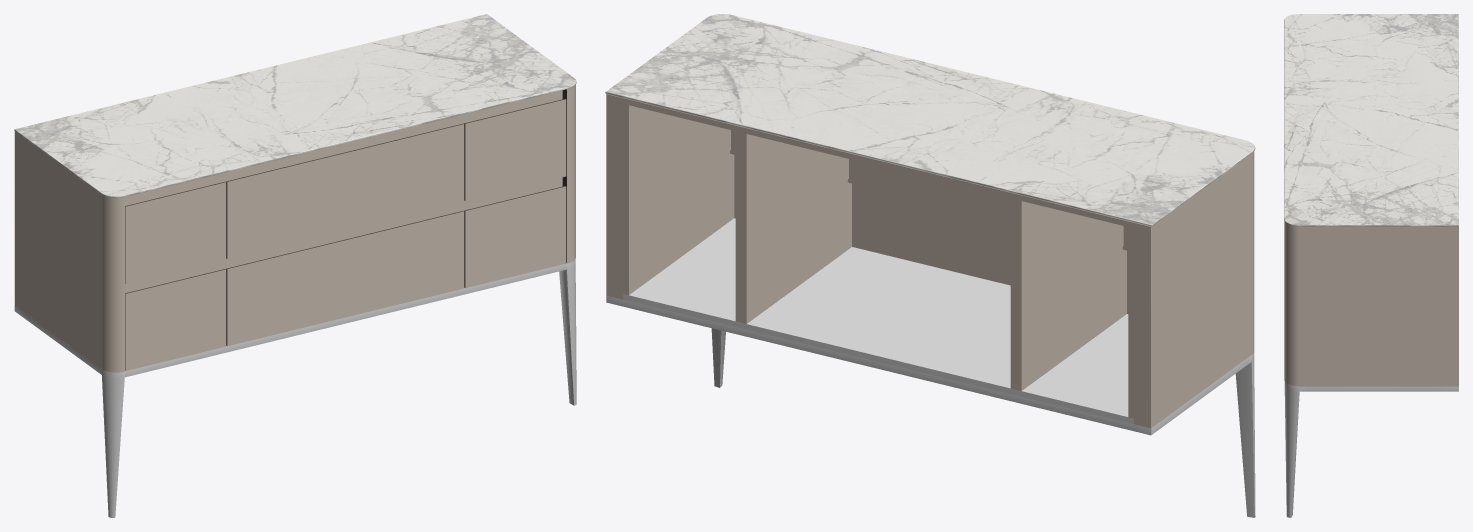
3 views of the same model, side by side, from view 1: azimuth 30°, elevation 25°; view 2: azimuth 150°, elevation 25°; view 3: azimuth 270°, elevation 25° (orthographic). The views are drawn at different scales.
Parts seen in each view (by area): view 1: ER09; view 2: ER09; view 3: ER09.
Part boxes in pixels (bbox=[...]): ER09: bbox=[14, 14, 576, 517]; ER09: bbox=[605, 14, 1255, 517]; ER09: bbox=[1284, 14, 1458, 517].
Bounding box in the file's own units: 1.6 × 1.04 × 0.56.
5 materials, 1 textured.
